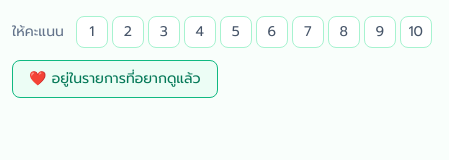
it: DELETE error แสดงข้อความและคงสถานะหัวใจเดิม
Click the button "❤️ อยู่ในรายการที่อยากดูแล้ว": (115,79) [12,60,218,98]
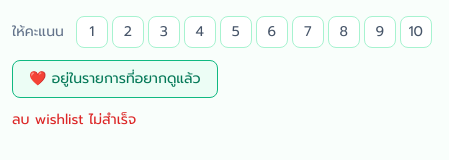
Expected: the message reads "ลบ wishlist ไม่สำเร็จ", [12,109,136,130]
